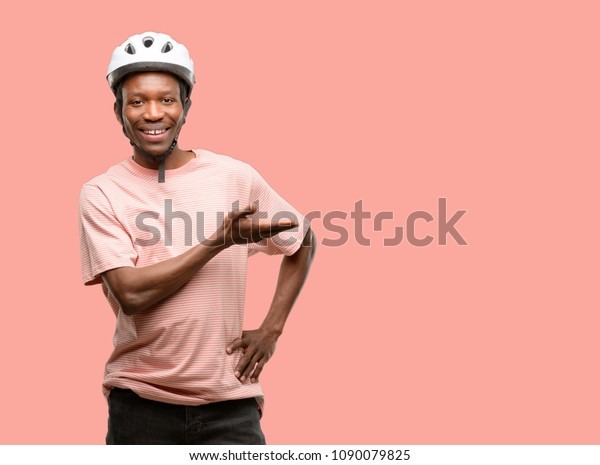helmet: (106, 31, 195, 156)
